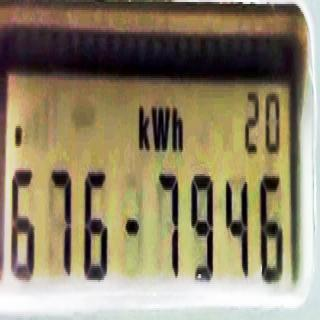-: (124, 206, 140, 243), (13, 120, 23, 152)
0: (264, 87, 281, 161)
2: (244, 85, 260, 162)
4: (224, 169, 250, 285)
6: (9, 161, 36, 289), (83, 167, 110, 289), (258, 167, 284, 288)
7: (48, 164, 74, 279), (158, 163, 182, 284)
9: (190, 166, 217, 290)
